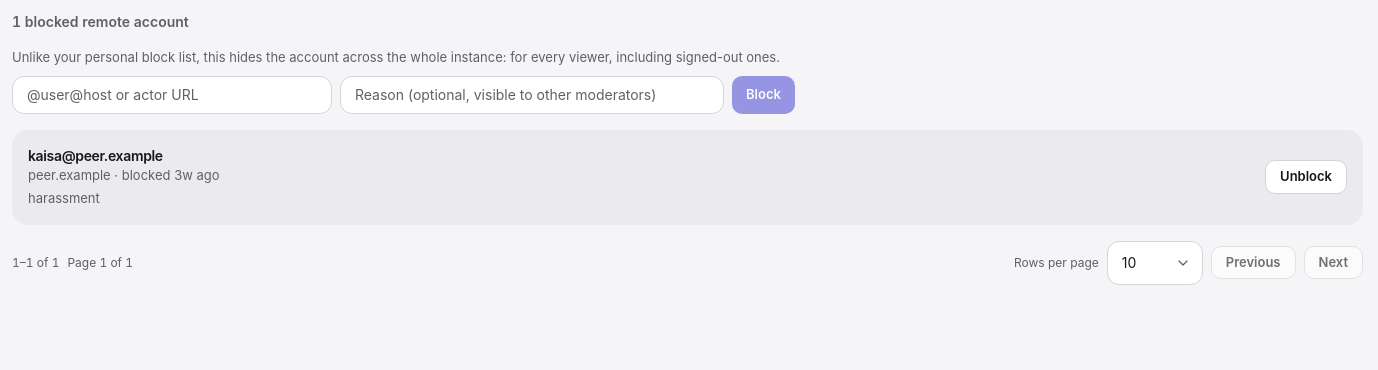
it: AdminBlockedRemoteActorsView › unblocks only after confirmation, sending the verbatim actor URL
Click the button with aria-label "Unblock kaisa@peer.example".
click(1306, 177)  # box 1265,160 -> 1347,194
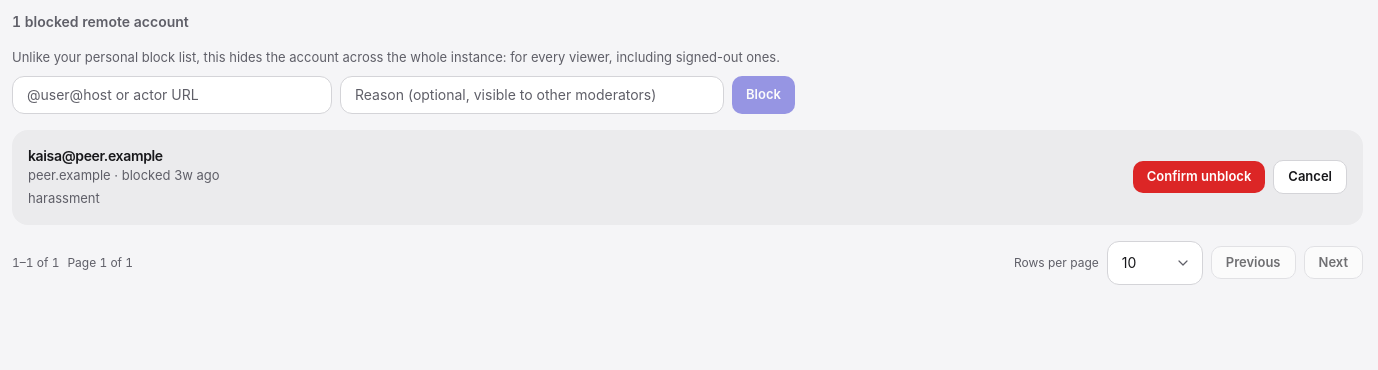
Click the button "Confirm unblock".
click(1199, 177)  # box 1133,161 -> 1265,193
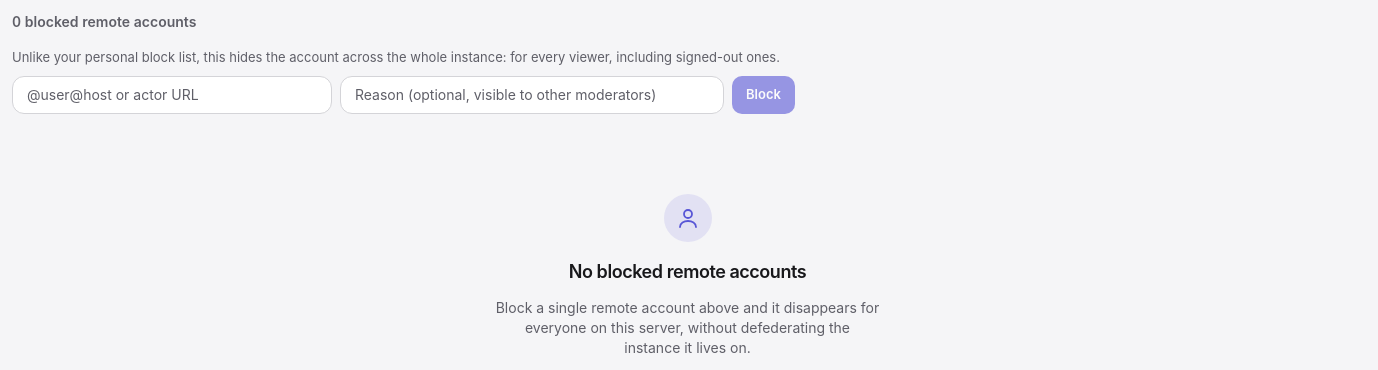
Expected: the text "kaisa@peer.example" is gone
